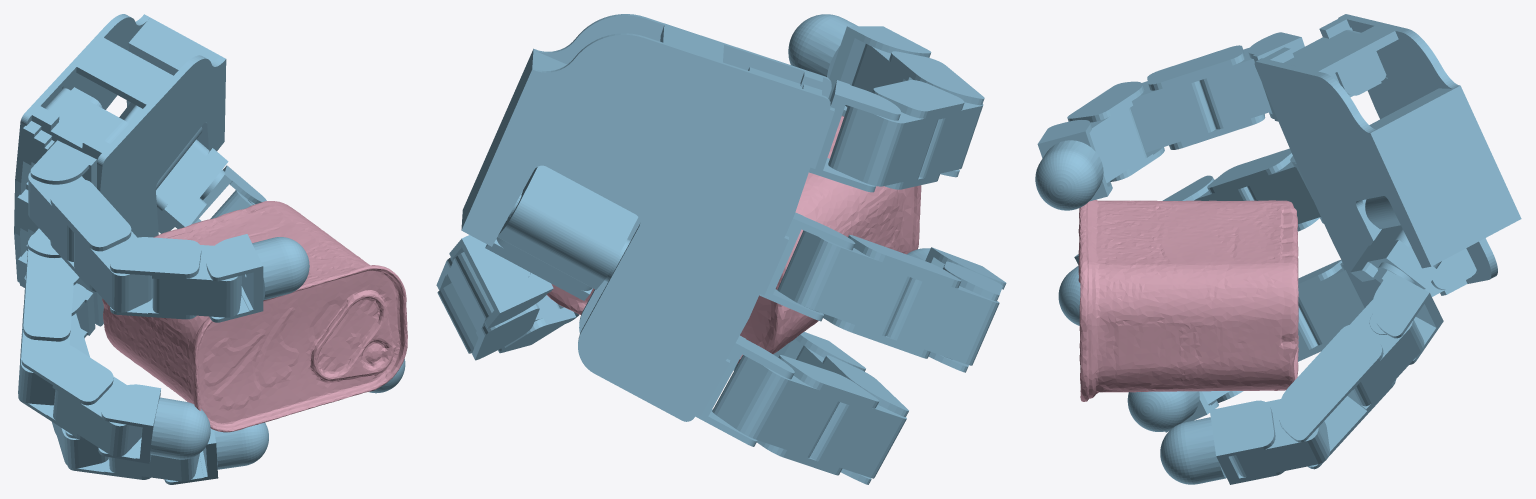
3 views of the same model, side by side, from view 1: azimuth 30°, elevation 25°; view 2: azimuth 150°, elevation 25°; view 3: azimuth 270°, elevation 25° (orthographic). The views are drawn at different scales.
Visible parts, largest first — view 1: world, potted_meat_can.stl; view 2: world, potted_meat_can.stl; view 3: world, potted_meat_can.stl.
Part boxes in pixels (box(x1,y1,x2,y2)): world: box(14, 14, 405, 484); potted_meat_can.stl: box(102, 201, 407, 432); world: box(436, 14, 1006, 484); potted_meat_can.stl: box(547, 116, 921, 363); world: box(1035, 14, 1521, 484); potted_meat_can.stl: box(1078, 200, 1298, 401).
Size of the model in its own units: 0.184 by 0.1721 by 0.1846.
